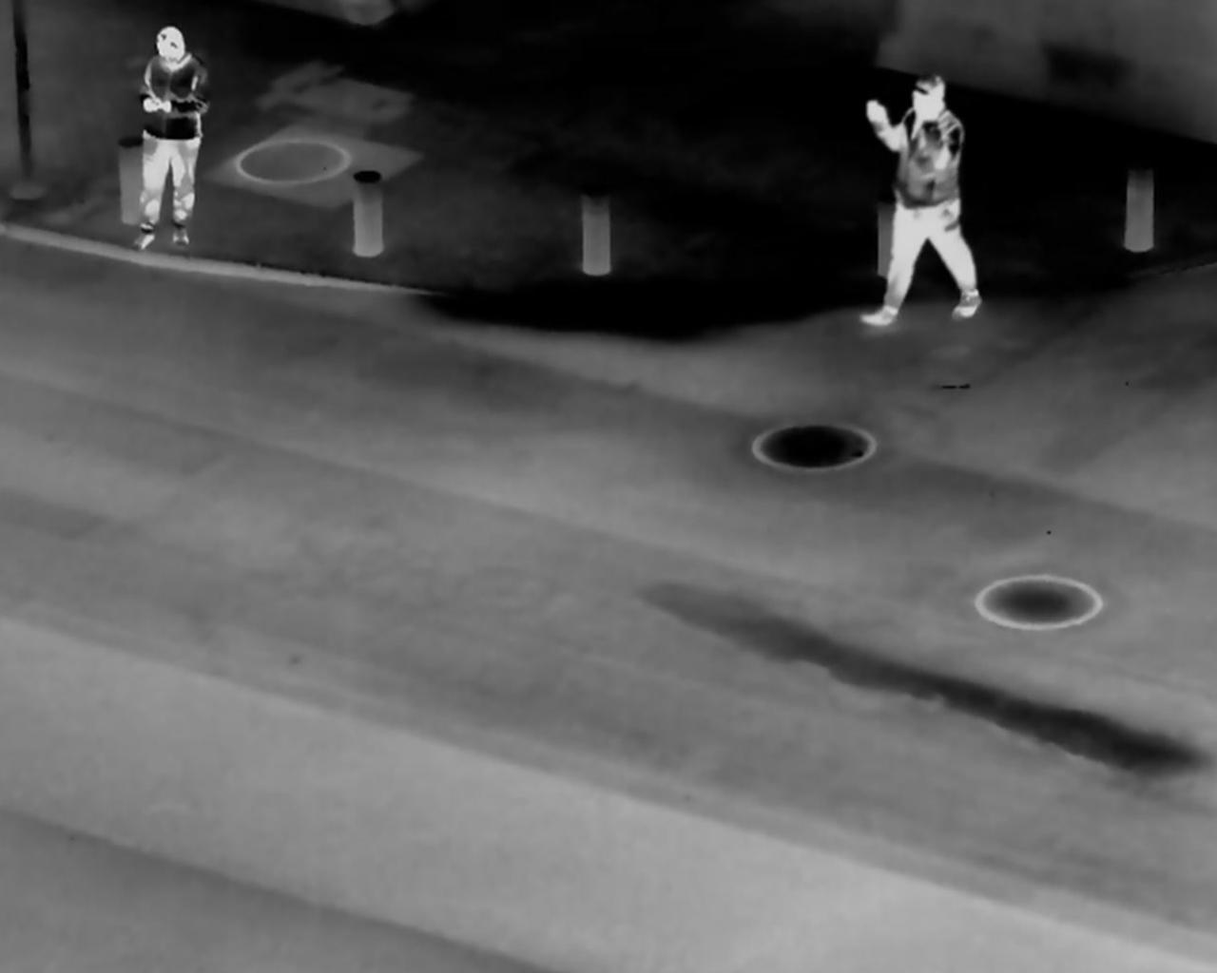person: (858, 66, 989, 334), (136, 24, 207, 251)
